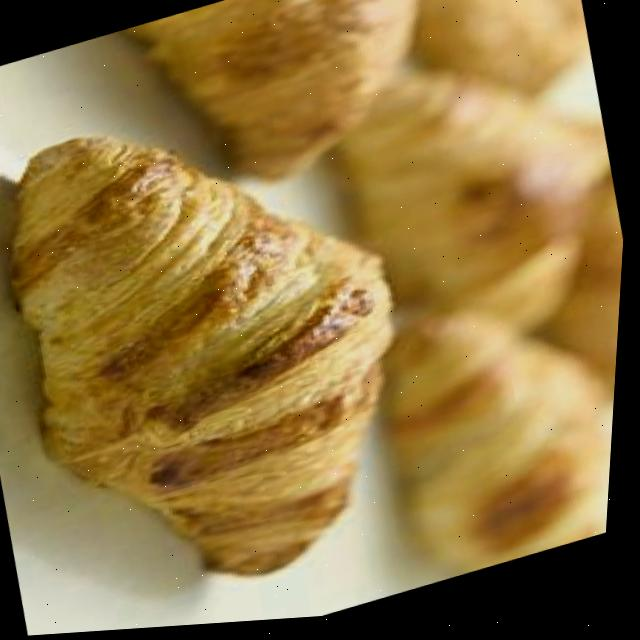面包点心: (0, 47, 476, 640)
